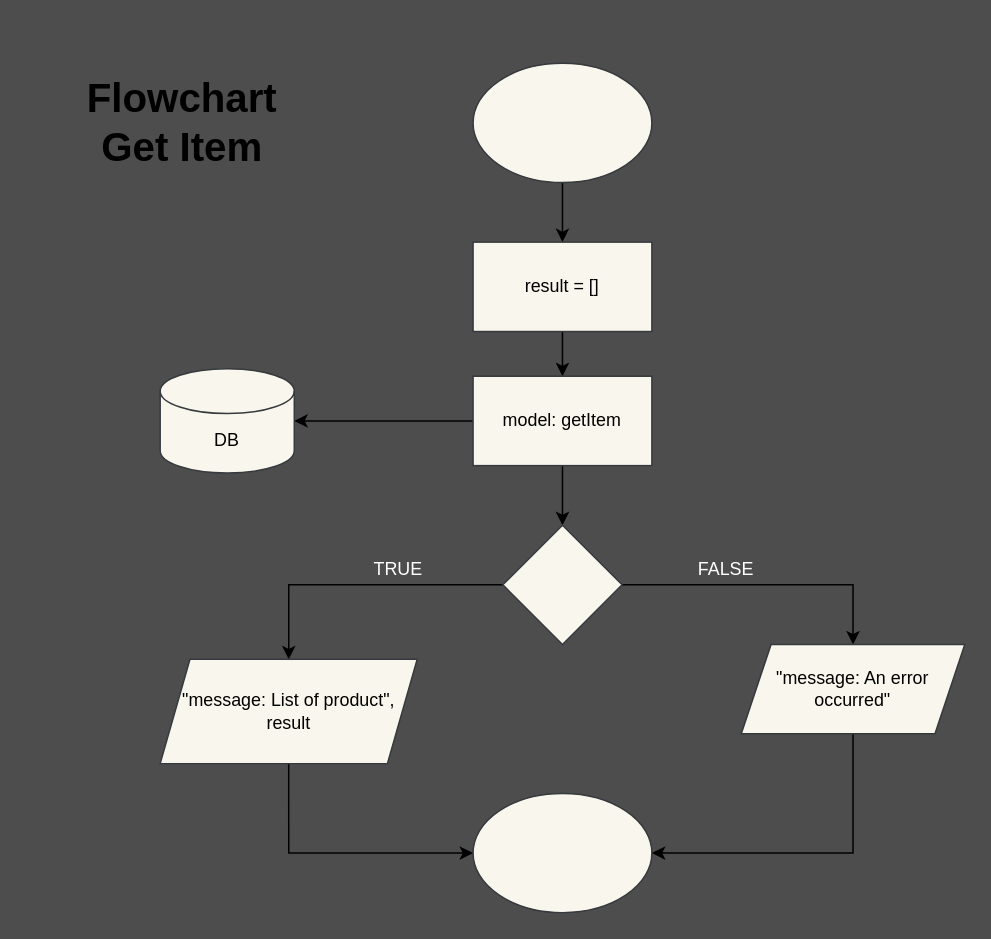
The diagram is 991 pixels wide and 939 high, and some of its shapes have lost their labels. Each missing label, with the centre of its shape:
"END" belongs at (x=562, y=852).
"no error" belongs at (x=561, y=584).
"START" belongs at (x=562, y=122).
